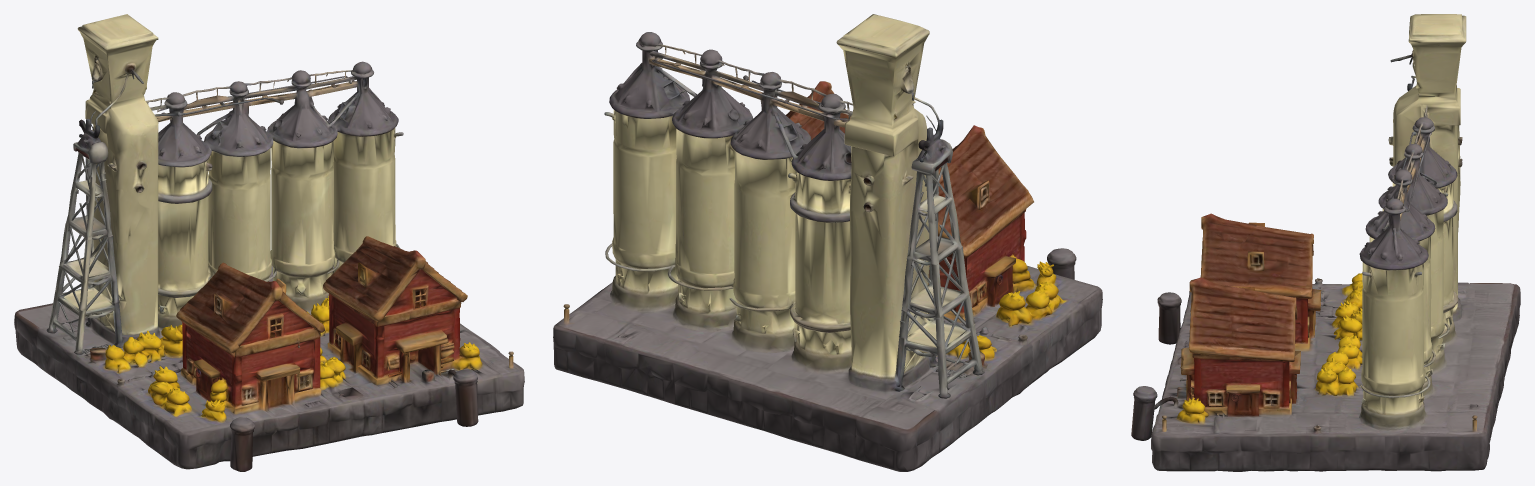
File: port_grain.glb
3 views of the same model, side by side, from view 1: azimuth 30°, elevation 25°; view 2: azimuth 150°, elevation 25°; view 3: azimuth 270°, elevation 25° (orthographic). The views are drawn at different scales.
Parts seen in each view (by area): view 1: tripo_node_09619743-0663-4a87-9dd8-c2974290c4e9; view 2: tripo_node_09619743-0663-4a87-9dd8-c2974290c4e9; view 3: tripo_node_09619743-0663-4a87-9dd8-c2974290c4e9.
Boxes of the visible parts, <box> form: tripo_node_09619743-0663-4a87-9dd8-c2974290c4e9: <box>14,14,524,471</box>; tripo_node_09619743-0663-4a87-9dd8-c2974290c4e9: <box>553,14,1102,471</box>; tripo_node_09619743-0663-4a87-9dd8-c2974290c4e9: <box>1131,14,1520,471</box>.
Size of the model in its own units: 0.9215 by 0.9076 by 0.9797.
Materials: 1 (1 with a texture image).
